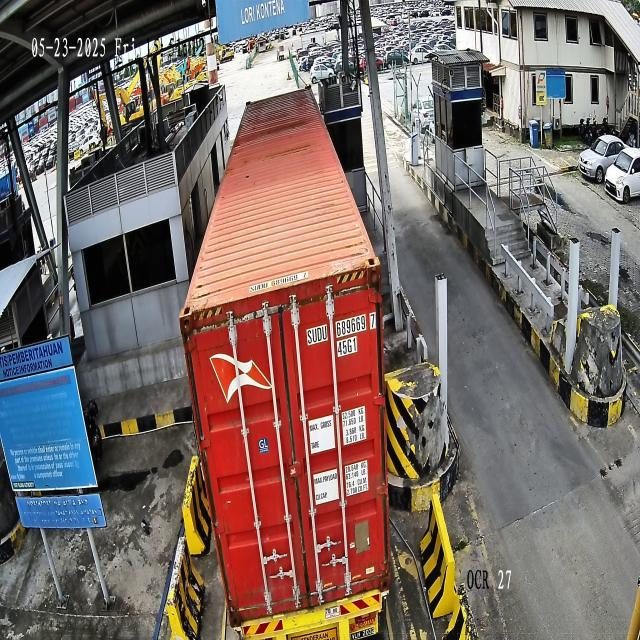ISO: (337, 337, 358, 358)
container_number: (307, 312, 375, 346)
